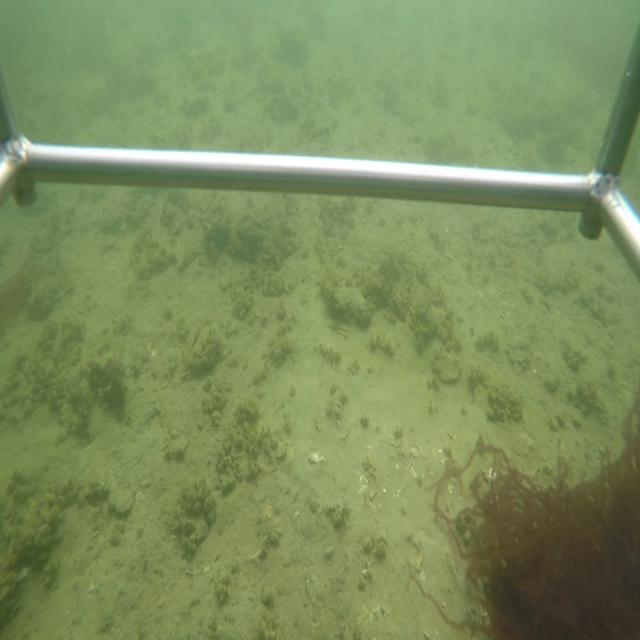Oyster-Closed: (316, 280, 378, 332)
